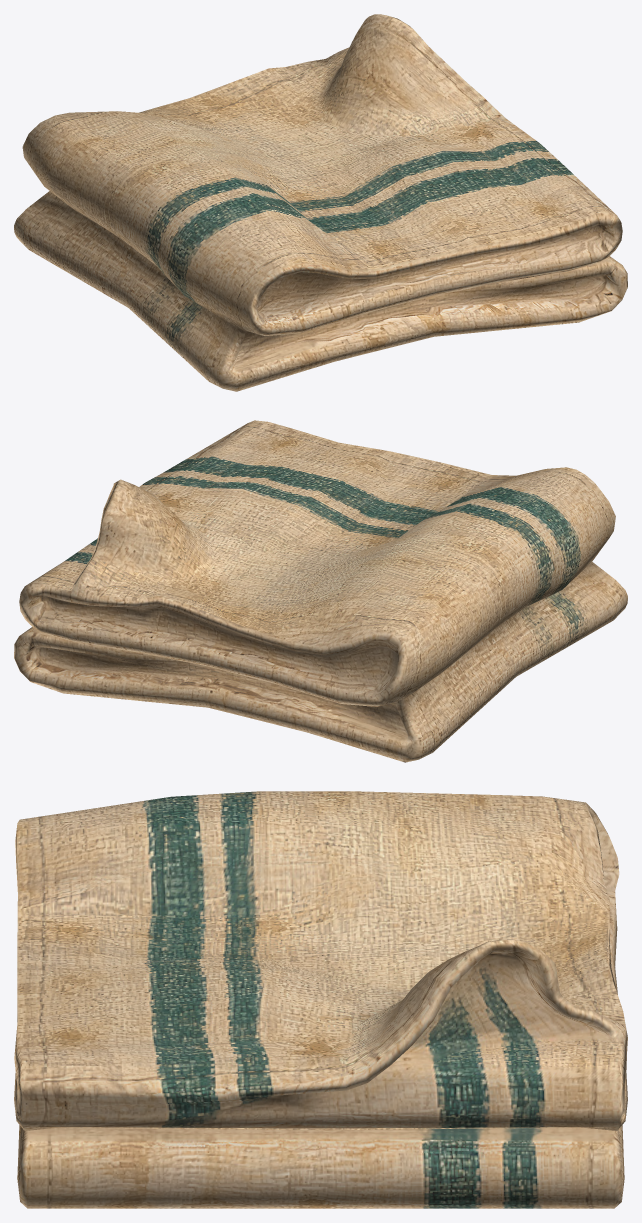
File: P28_dish_cloth_Runtime_1k.glb
The picture shows the model from 3 angles, top to bottom: view 1: azimuth 30°, elevation 25°; view 2: azimuth 150°, elevation 25°; view 3: azimuth 270°, elevation 25°; orthographic projection. The views are drawn at different scales.
Parts seen in each view (by area): view 1: tripo_node_7fa7784a; view 2: tripo_node_7fa7784a; view 3: tripo_node_7fa7784a.
Part boxes in pixels (left/top/right/bottom): tripo_node_7fa7784a: left=14, top=14, right=627, bottom=391; tripo_node_7fa7784a: left=14, top=420, right=627, bottom=762; tripo_node_7fa7784a: left=14, top=791, right=627, bottom=1208.
Size of the model in its own units: 0.24 by 0.1019 by 0.2353.
Materials: 1 (1 with a texture image).
